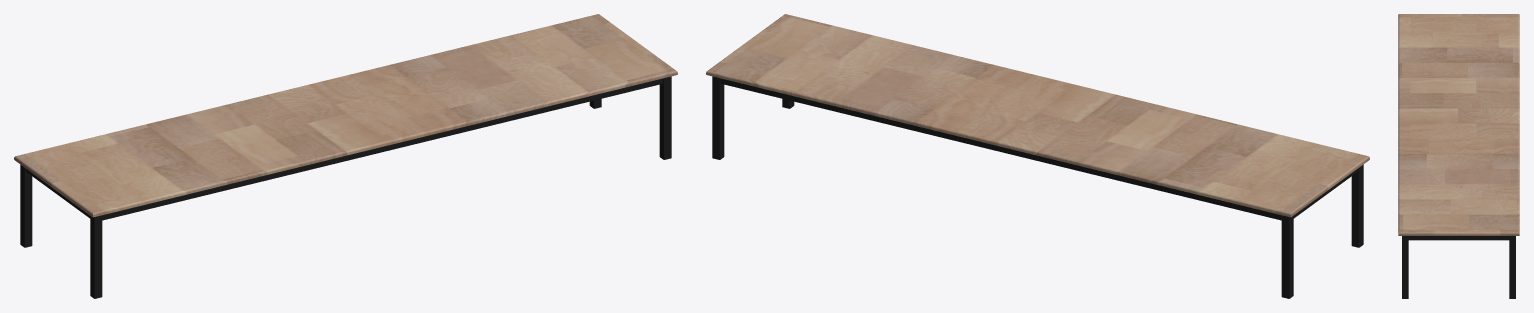
File: Table.fbx
3 renders of one model, left to right at view 1: azimuth 30°, elevation 25°; view 2: azimuth 150°, elevation 25°; view 3: azimuth 270°, elevation 25°, orthographic. The views are drawn at different scales.
Parts seen in each view (by area): view 1: Table.001; view 2: Table.001; view 3: Table.001.
Part boxes in pixels (<box>): Table.001: <box>14,14,677,298</box>; Table.001: <box>706,14,1369,298</box>; Table.001: <box>1398,14,1519,298</box>.
Bounding box in the file's own units: 1318 × 190 × 308.
Materials: 2 (1 with a texture image).
